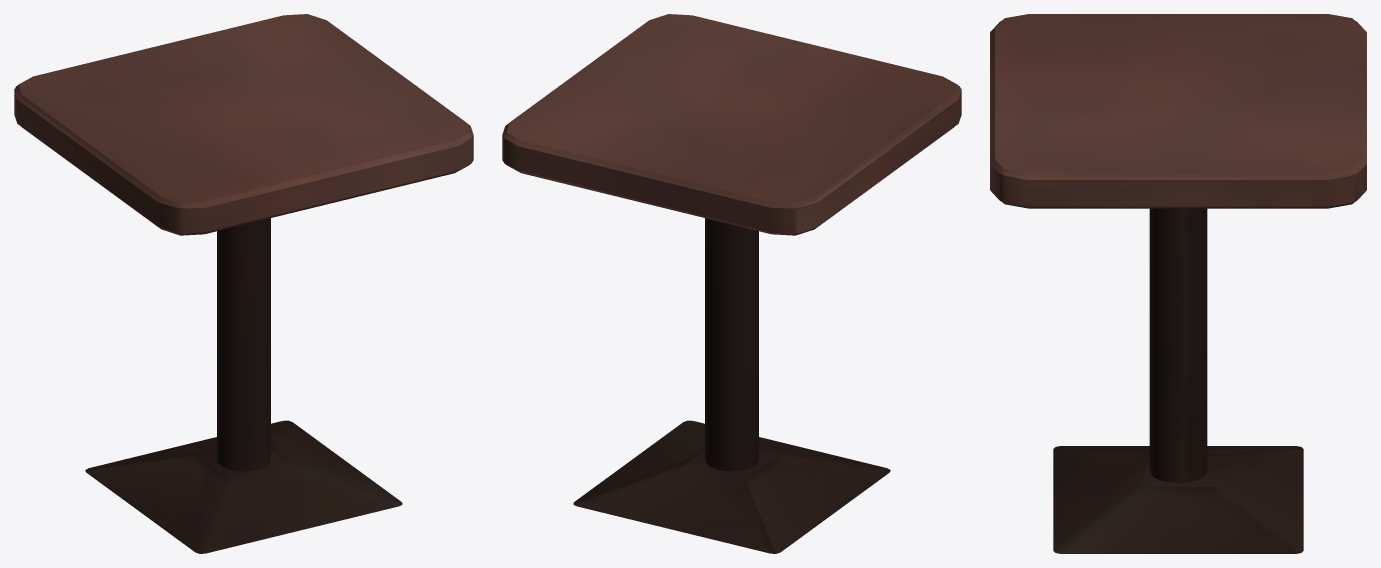
File: squaredesk.obj
3 renders of one model, left to right at view 1: azimuth 30°, elevation 25°; view 2: azimuth 150°, elevation 25°; view 3: azimuth 270°, elevation 25°, orthographic. The views are drawn at different scales.
Visible parts, largest first — view 1: _squaredesk:pCube1 group15, group15 _squaredesk:pCube2, group15 _squaredesk:pCylinder1; view 2: _squaredesk:pCube1 group15, group15 _squaredesk:pCube2, group15 _squaredesk:pCylinder1; view 3: _squaredesk:pCube1 group15, group15 _squaredesk:pCube2, group15 _squaredesk:pCylinder1.
Boxes of the visible parts, left/top/right/bottom form: _squaredesk:pCube1 group15: left=14, top=14, right=473, bottom=235; group15 _squaredesk:pCube2: left=85, top=420, right=402, bottom=553; group15 _squaredesk:pCylinder1: left=217, top=218, right=270, bottom=471; _squaredesk:pCube1 group15: left=502, top=14, right=961, bottom=235; group15 _squaredesk:pCube2: left=573, top=420, right=890, bottom=553; group15 _squaredesk:pCylinder1: left=705, top=218, right=758, bottom=471; _squaredesk:pCube1 group15: left=990, top=14, right=1366, bottom=208; group15 _squaredesk:pCube2: left=1053, top=446, right=1303, bottom=553; group15 _squaredesk:pCylinder1: left=1149, top=208, right=1207, bottom=482.
Bounding box in the file's own units: 60.68 × 70.19 × 59.03.
